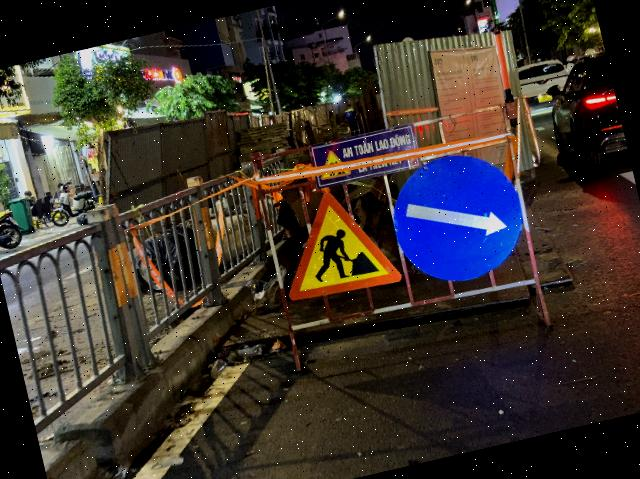cong-truong-dang-thi-cong: (268, 178, 402, 306)
huong-phai-di-vong-chuong-ngai-vat: (382, 143, 534, 294)
